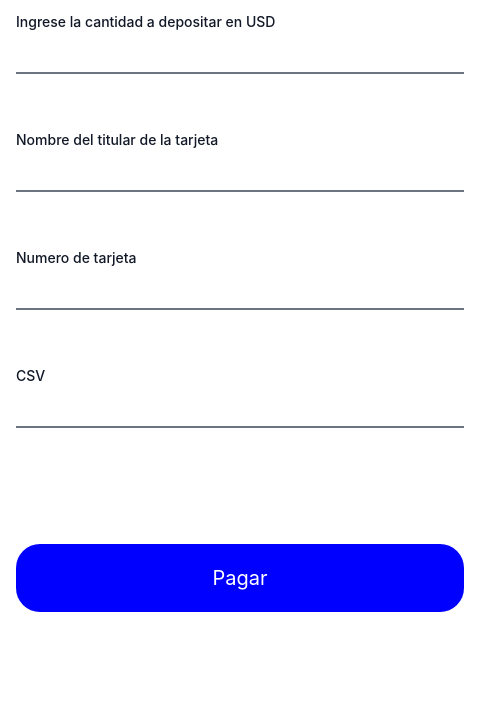
DepositForm › validates fields correctly when empty
The width and height of the screenshot is (481, 709).
(page scrolled)
Click the button "Pagar".
click(240, 578)  # box [16,544,464,612]
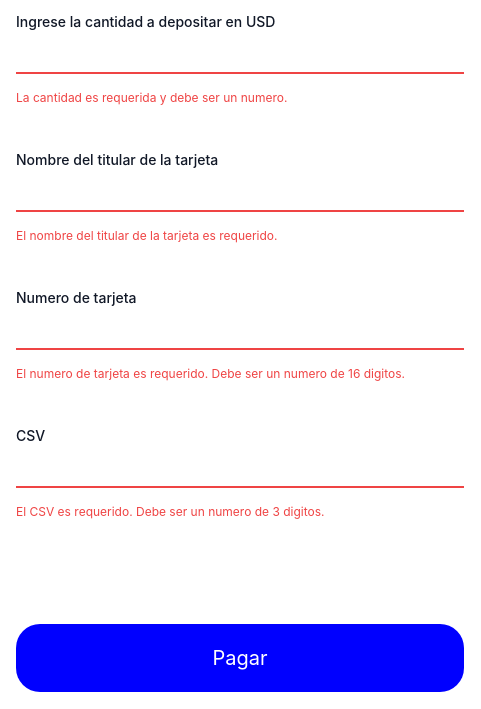
expect the text "La cantidad es requerida y debe ser un numero." is shown: met, box [16,90,287,105]
expect the text "El nombre del titular de la tarjeta es requerido." is shown: met, box [16,228,278,243]
expect the text "El numero de tarjeta es requerido. Debe ser un numero de 16 digitos." is shown: met, box [16,366,464,382]
